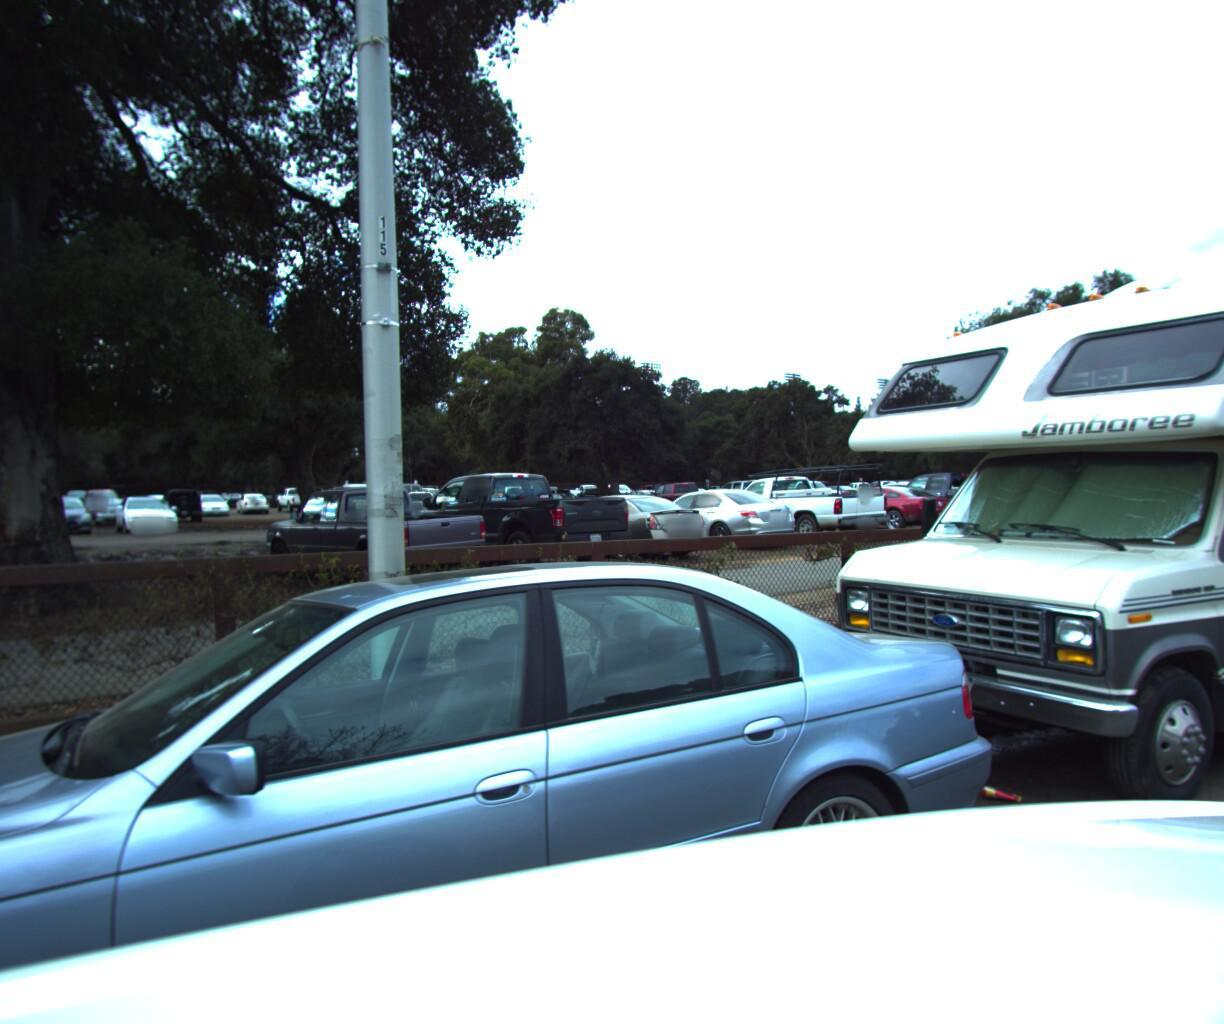car: (0, 519, 1050, 1024), (246, 479, 499, 593), (389, 463, 644, 575)
other_vehicle: (766, 110, 1224, 845)
